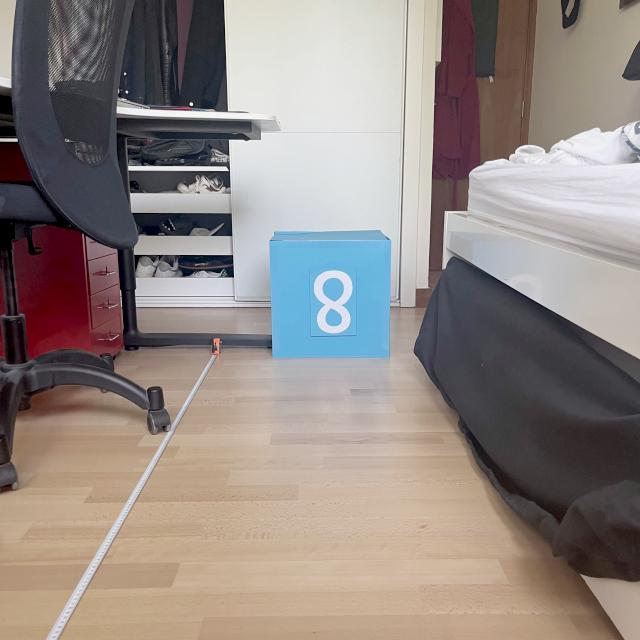box: (265, 226, 394, 360)
